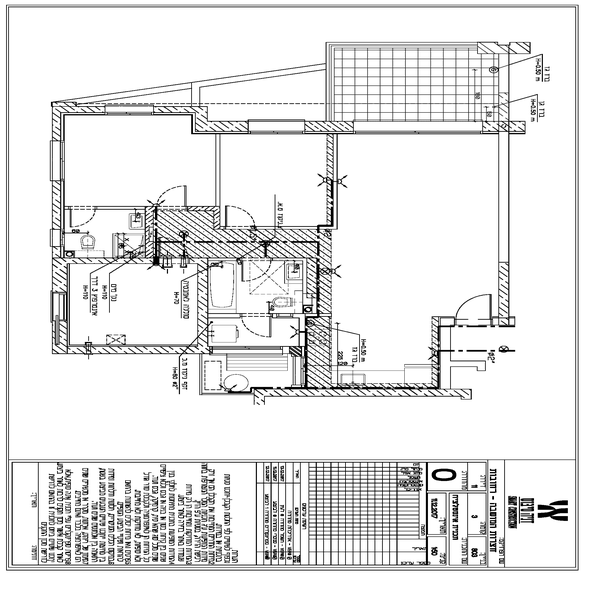door: (151, 169, 196, 213), (216, 201, 261, 237), (458, 287, 496, 324), (237, 255, 277, 289), (239, 310, 277, 344), (68, 203, 103, 231)
room: (312, 101, 515, 405), (204, 238, 337, 393), (45, 86, 157, 261), (199, 116, 347, 242), (45, 255, 212, 351)
wall: (251, 387, 477, 404), (61, 335, 209, 356), (190, 257, 217, 355), (297, 318, 335, 386), (320, 132, 341, 232), (58, 250, 157, 266), (47, 247, 77, 294), (47, 184, 74, 232), (157, 104, 211, 122), (307, 113, 352, 134), (49, 315, 73, 354), (499, 263, 515, 321), (197, 117, 247, 134), (48, 99, 69, 139), (67, 94, 108, 113), (484, 115, 526, 132)
window: (351, 114, 477, 138), (47, 141, 74, 178), (110, 94, 153, 117), (257, 117, 306, 134)
